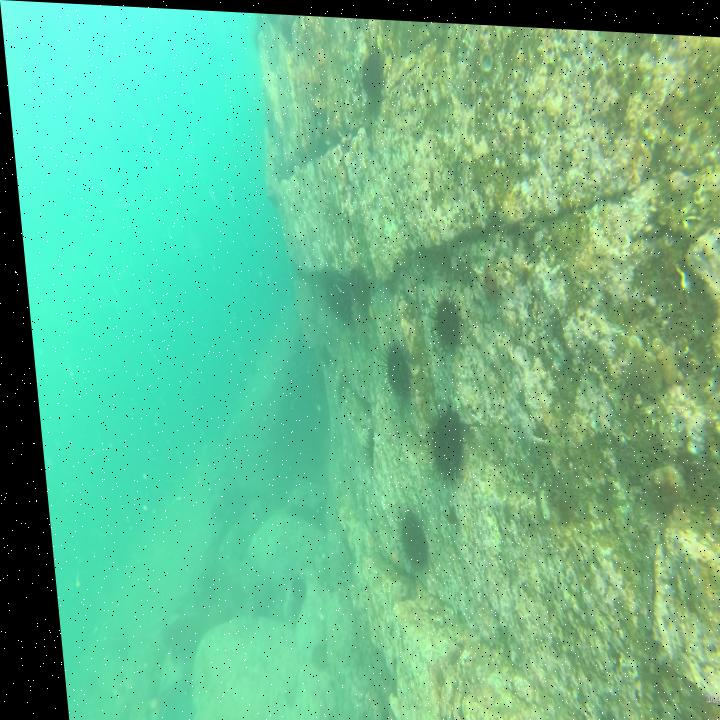echinus: (416, 398, 463, 480), (371, 329, 412, 400), (387, 501, 424, 577), (420, 282, 458, 352), (360, 45, 386, 96), (341, 259, 369, 304), (316, 271, 345, 313), (343, 287, 364, 344)
